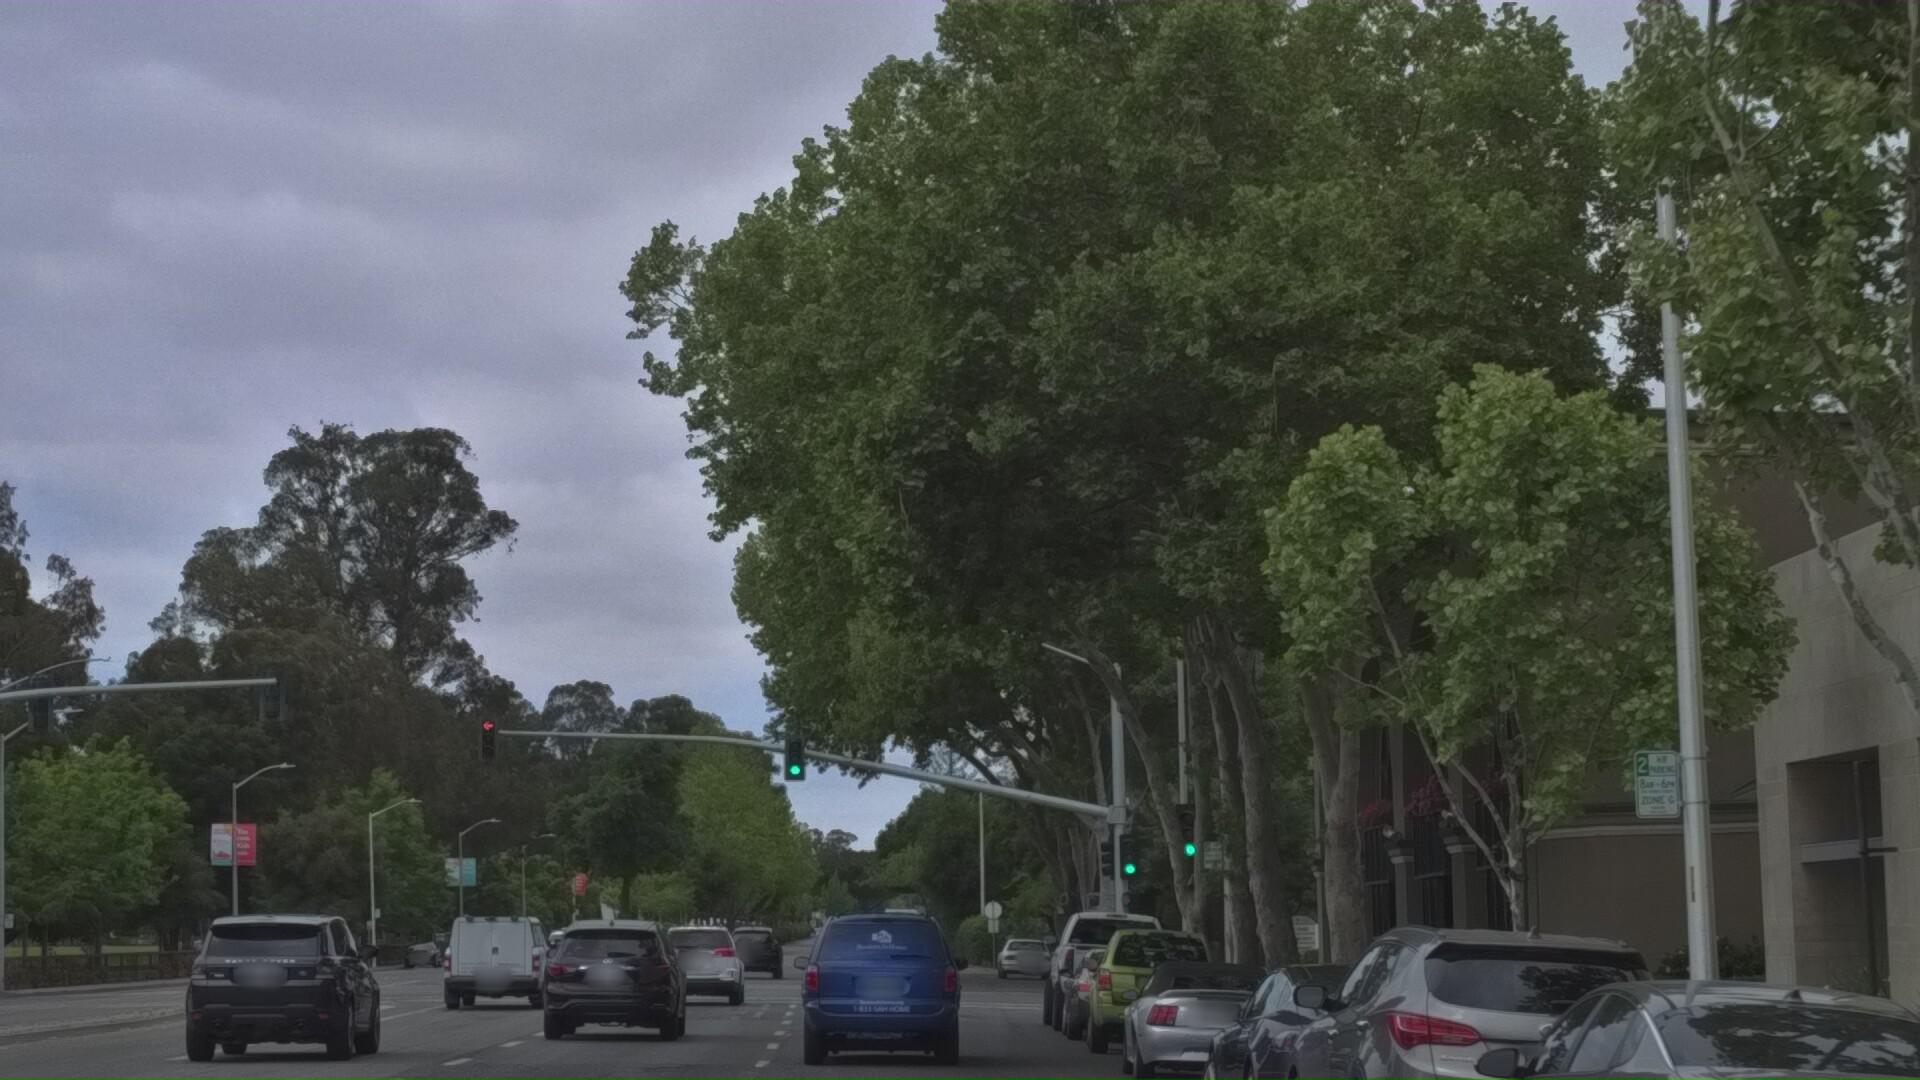car: (1271, 924, 1751, 1080), (1437, 956, 1920, 1080), (1207, 969, 1568, 1080), (800, 916, 988, 1080), (185, 945, 411, 1080), (545, 948, 699, 1080), (1102, 942, 1247, 1080), (1058, 927, 1203, 1063), (1142, 972, 1321, 1080), (450, 945, 576, 1060), (665, 955, 774, 1065)
